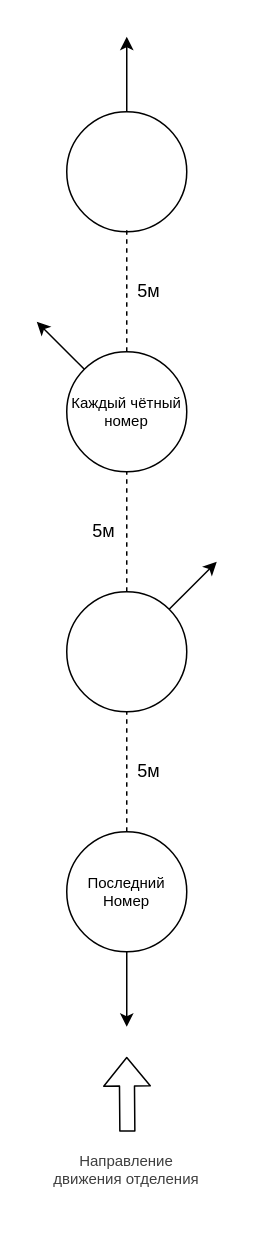
The diagram is 255 pixels wide and 1233 high, and some of its shapes have lost their labels. The shapes that lost their labels are listed below. From the top down, each one's centre as x and y in pixels, then its label:
At [126,171]: "Первый номер".
At [126,651]: "Каждый нечётный номер".
